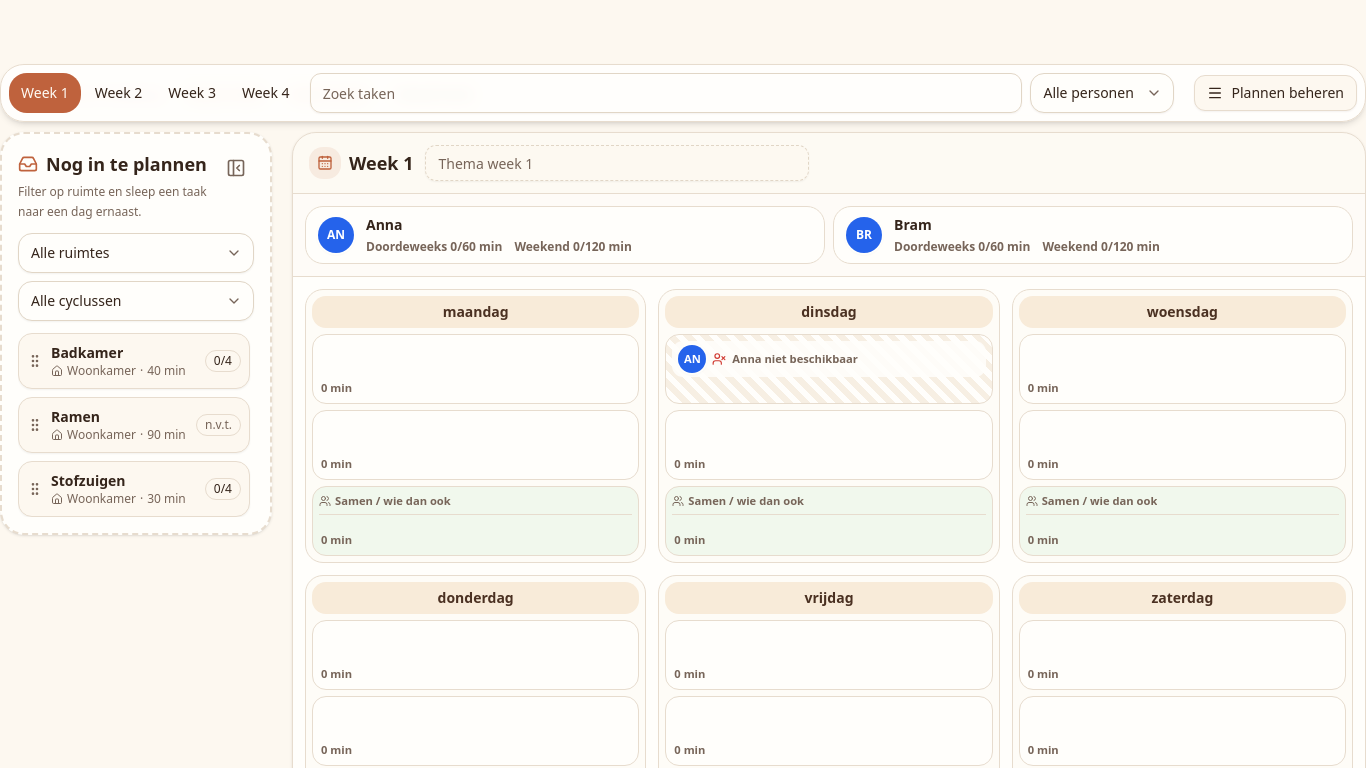
PlannerPage — drops › refuses a drop on a day the assignee is unavailable and explains why
Check: the element named "Kies een week" is shown, box [0,64,1365,122]
Check: the element "AI-assistent" is not shown
Click the button "Plannen beheren".
click(1276, 93)  # box [1194,75,1357,111]
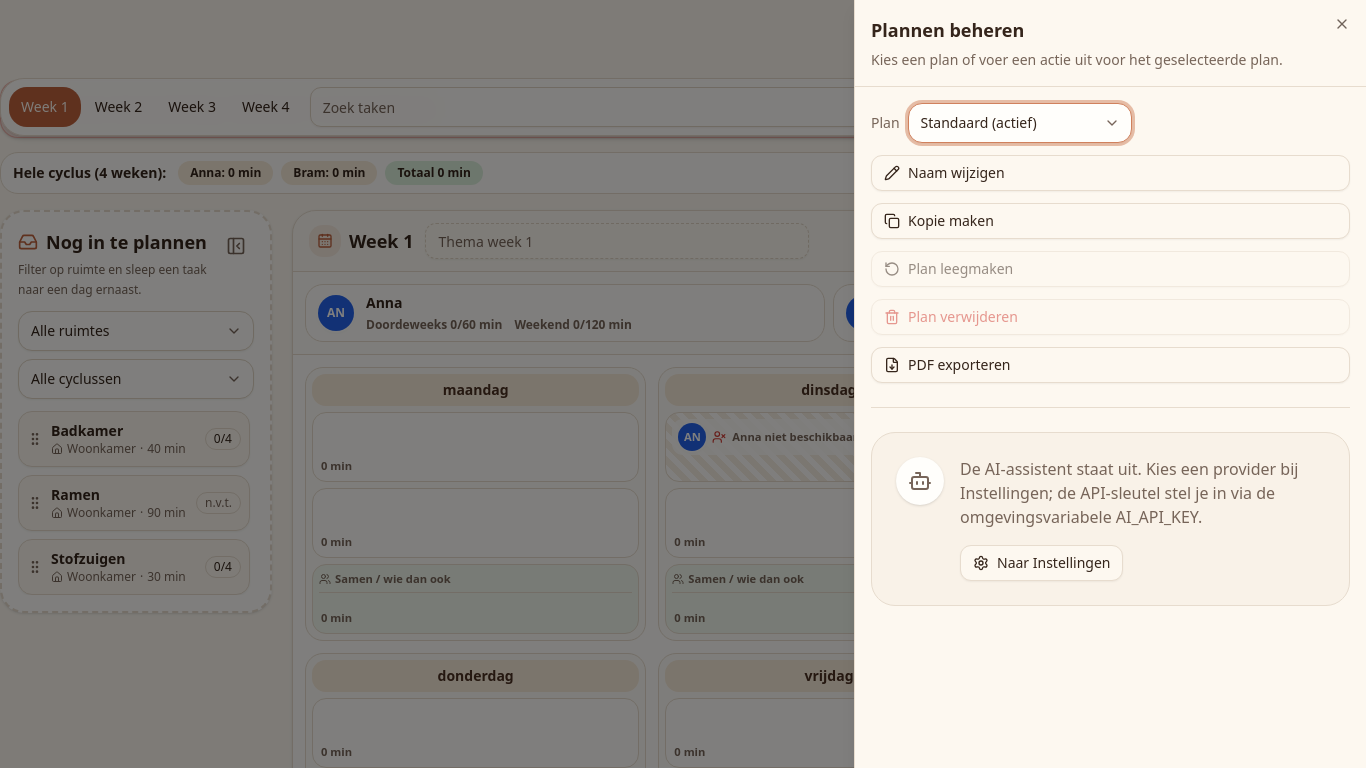
Check: the element "AI-assistent" is shown, box [871,407,1350,606]
Check: the message shows "Anna kan niet op dinsdag. \"Badkamer\" is niet geplaatst.", box [41,99,433,118]
